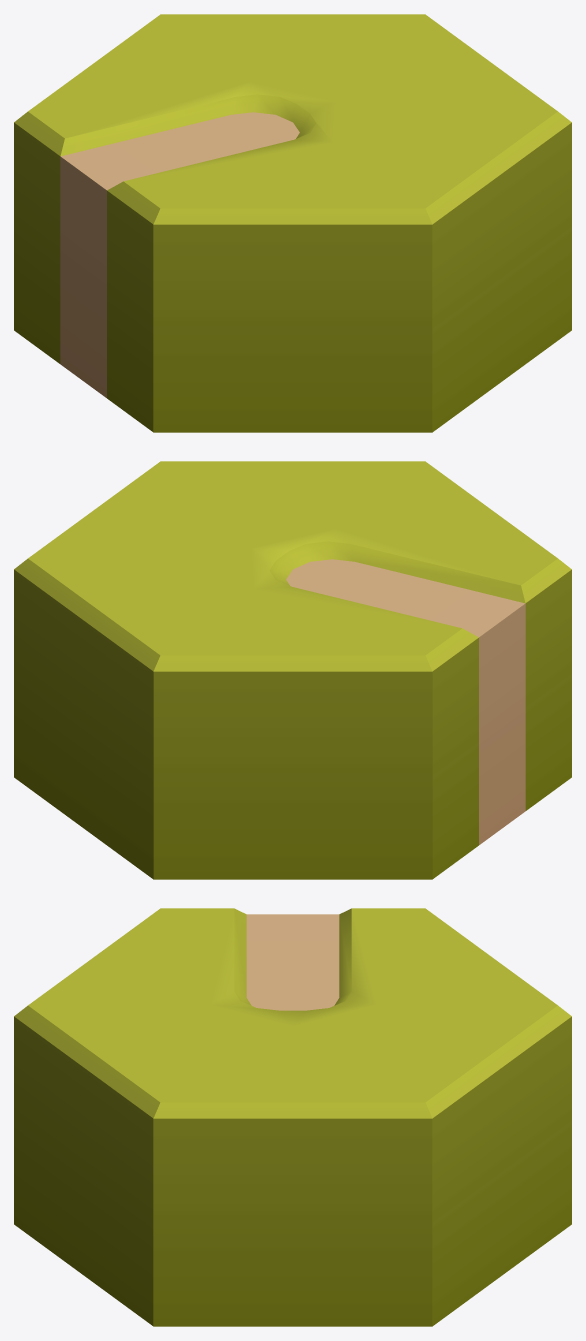
Rendered from kaykit-medieval-hexagon-pack-hex-road-m.glb.
3 views of the same model, one above another, from view 1: azimuth 30°, elevation 25°; view 2: azimuth 150°, elevation 25°; view 3: azimuth 270°, elevation 25° (orthographic).
Parts seen in each view (by area): view 1: hex_road_M; view 2: hex_road_M; view 3: hex_road_M.
Part boxes in pixels (x1=…): hex_road_M: x1=14, y1=14, x2=571, y2=432; hex_road_M: x1=14, y1=461, x2=571, y2=879; hex_road_M: x1=14, y1=908, x2=571, y2=1326.
Bounding box in the file's own units: 2 × 1 × 2.31.
1 material, 1 textured.
